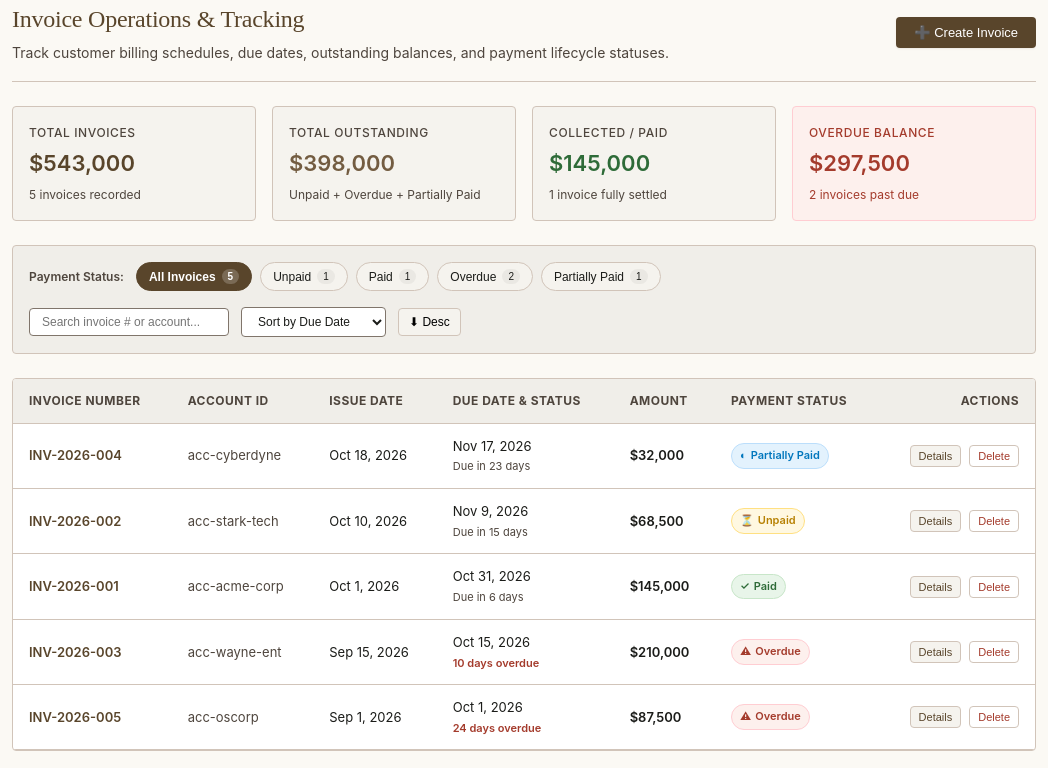
Scenario: InvoiceListTable Component & Helper Utilities › InvoiceListTable Component Rendering & Interactions › filters invoice list by payment status when filter buttons are clicked
# Filter by UNPAID
Click the button with test id "filter-btn-unpaid" at [304, 277], box left=260, top=262, right=348, bottom=291
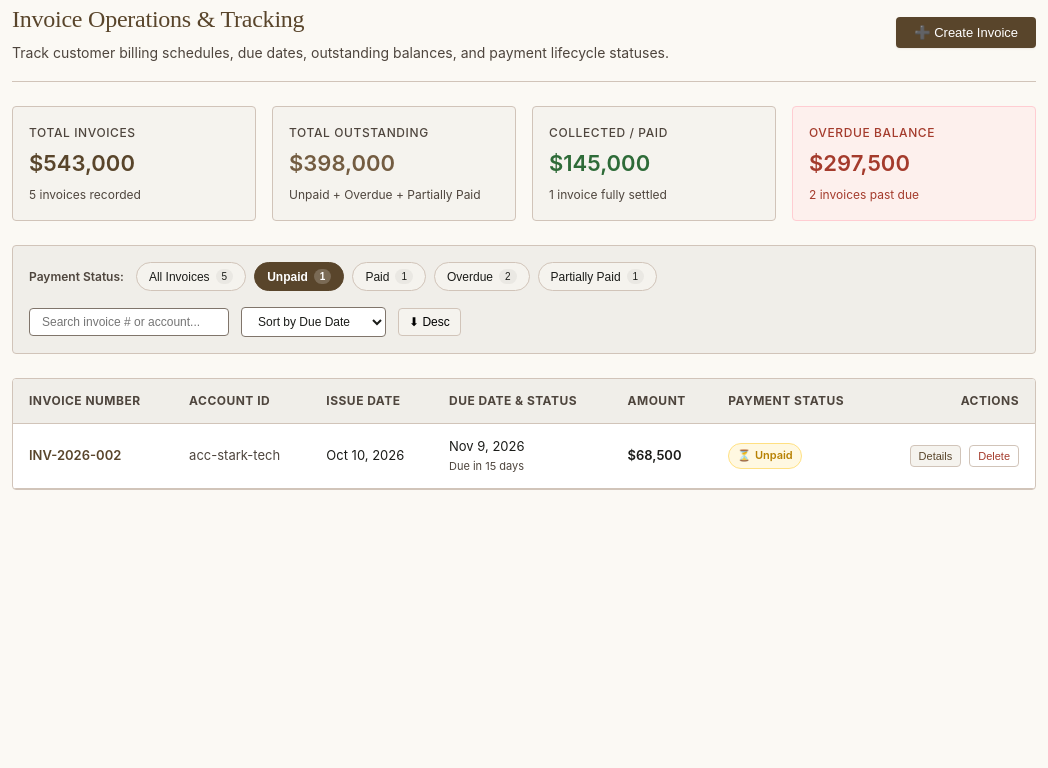
Expected: the text "INV-2026-002" is shown, left=13, top=423, right=173, bottom=488
Expected: the text "INV-2026-001" is gone
# Filter by PAID
Click the button with test id "filter-btn-paid" at [389, 277], box left=352, top=262, right=426, bottom=291
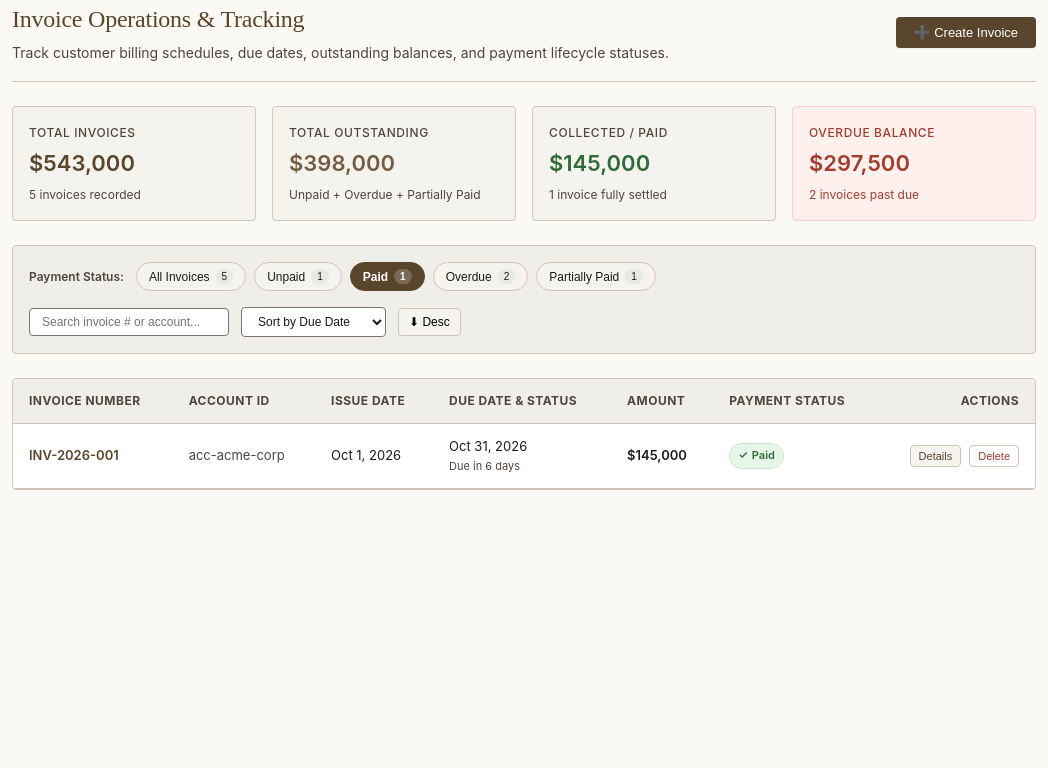
Expected: the text "INV-2026-001" is shown, left=13, top=423, right=173, bottom=488
Expected: the text "INV-2026-002" is gone
# Reset filter to ALL
Click the button with test id "filter-btn-all" at [191, 277], box left=136, top=262, right=246, bottom=291
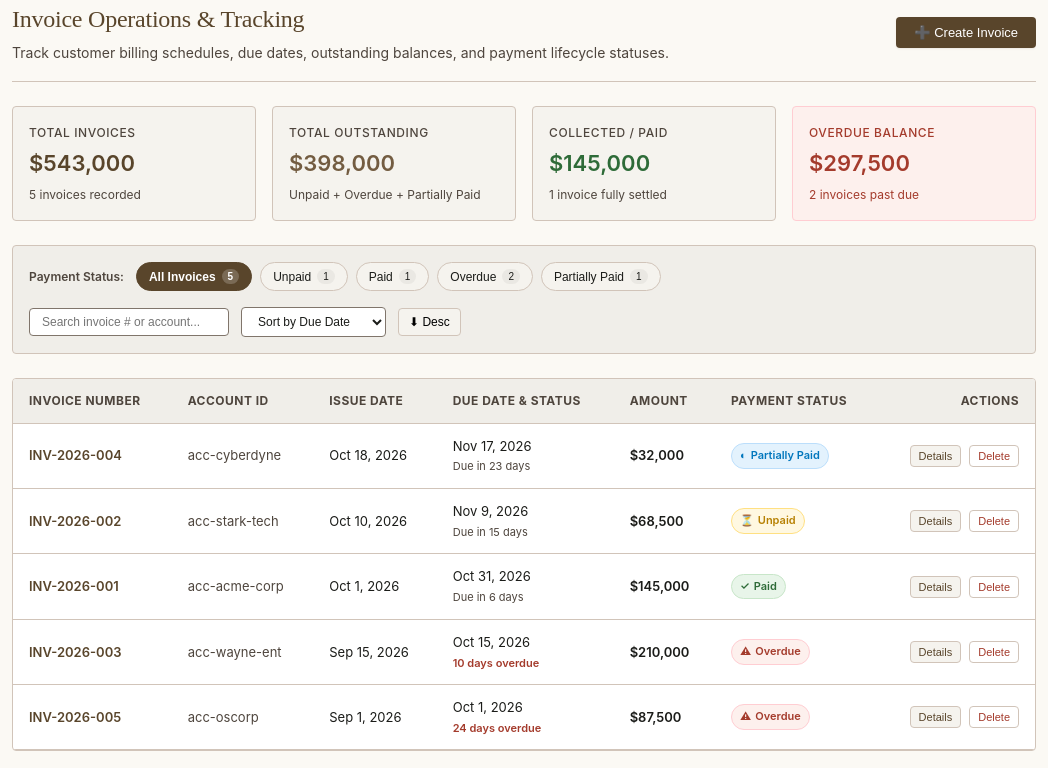
Expected: the text "INV-2026-001" is shown, left=13, top=554, right=172, bottom=619
Expected: the text "INV-2026-002" is shown, left=13, top=488, right=172, bottom=554
